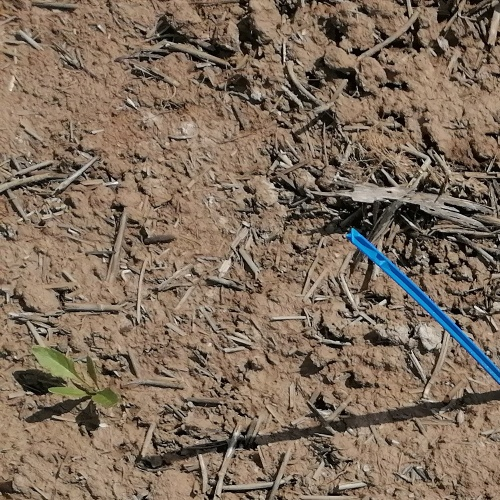beet: (30, 349, 120, 406)
